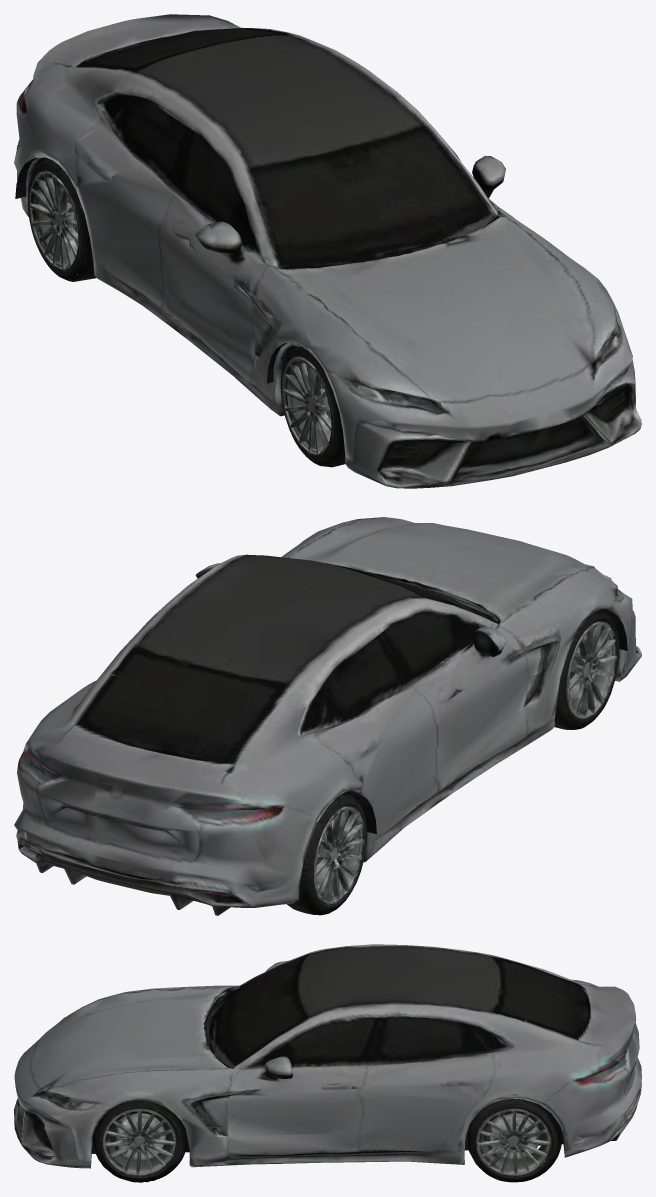
File: car_courier_lod.glb
3 views of the same model, one above another, from view 1: azimuth 30°, elevation 25°; view 2: azimuth 150°, elevation 25°; view 3: azimuth 270°, elevation 25° (orthographic). The views are drawn at different scales.
Parts seen in each view (by area): view 1: body, wheel_RR, wheel_FR; view 2: body, wheel_RR, wheel_FR; view 3: body, wheel_RL, wheel_FL.
Boxes of the visible parts, <box> form: body: <box>14,14,641,488</box>; wheel_RR: <box>27,160,86,280</box>; wheel_FR: <box>276,346,334,465</box>; body: <box>14,517,641,915</box>; wheel_RR: <box>287,796,367,915</box>; wheel_FR: <box>554,613,619,729</box>; body: <box>14,944,641,1180</box>; wheel_RL: <box>471,1100,562,1182</box>; wheel_FL: <box>101,1101,187,1182</box>.
Bounding box in the file's own units: 2.01 × 1.38 × 4.84.
2 materials, 1 textured.
